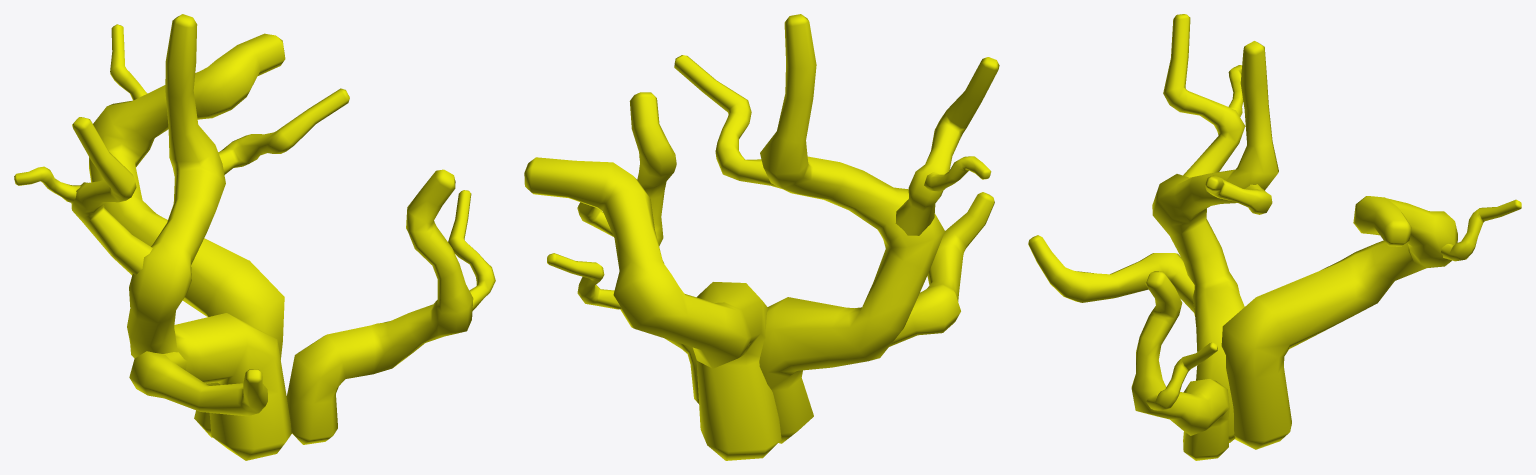
File: bush_dead_deco.glb
3 views of the same model, side by side, from view 1: azimuth 30°, elevation 25°; view 2: azimuth 150°, elevation 25°; view 3: azimuth 270°, elevation 25° (orthographic). The views are drawn at different scales.
Visible parts, largest first — view 1: deco_bush_dead1_LOD0; view 2: deco_bush_dead1_LOD0; view 3: deco_bush_dead1_LOD0.
Part boxes in pixels (<box>): deco_bush_dead1_LOD0: <box>14,14,495,460</box>; deco_bush_dead1_LOD0: <box>524,14,999,460</box>; deco_bush_dead1_LOD0: <box>1028,14,1521,460</box>.
Size of what is drawn, in the model's own units: 1.82 by 1.7 by 2.03.
1 material, 1 textured.
